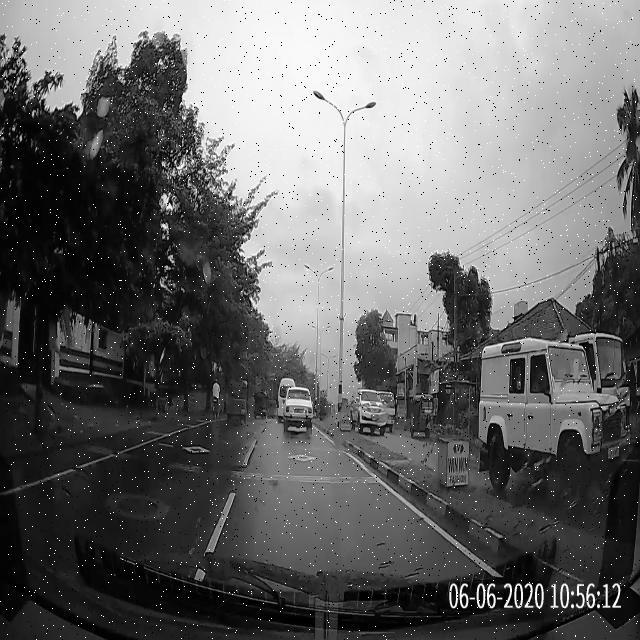diamond: (243, 454, 364, 466)
